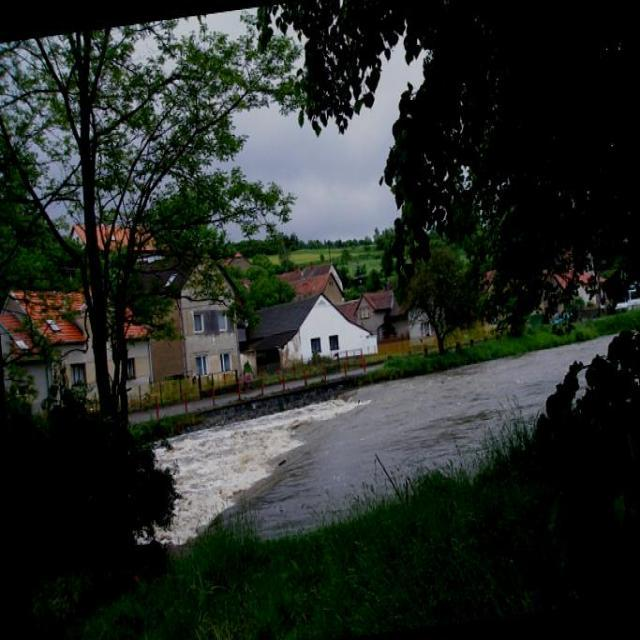flood: (117, 323, 639, 573)
